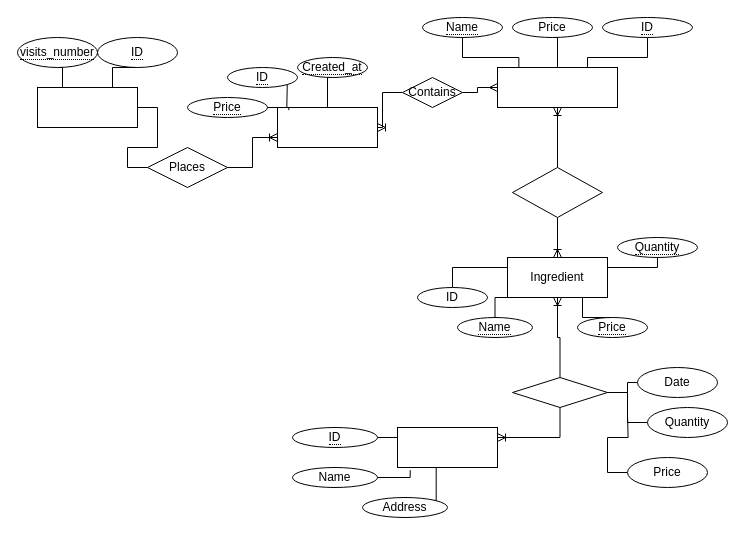
The diagram is 745 pixels wide and 535 high, and some of its shapes have lost their labels. The centre of each missing label's shape, as x and y in pixels:
Consists of: point (557, 192)
Customer: point (87, 107)
Dish: point (557, 87)
Order: point (327, 127)
Supplier: point (447, 447)
Supplies: point (560, 392)
